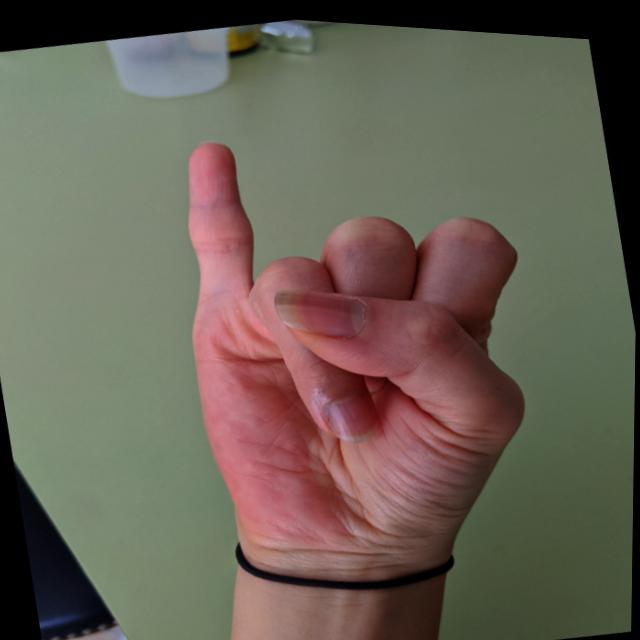I: (141, 77, 579, 593)
